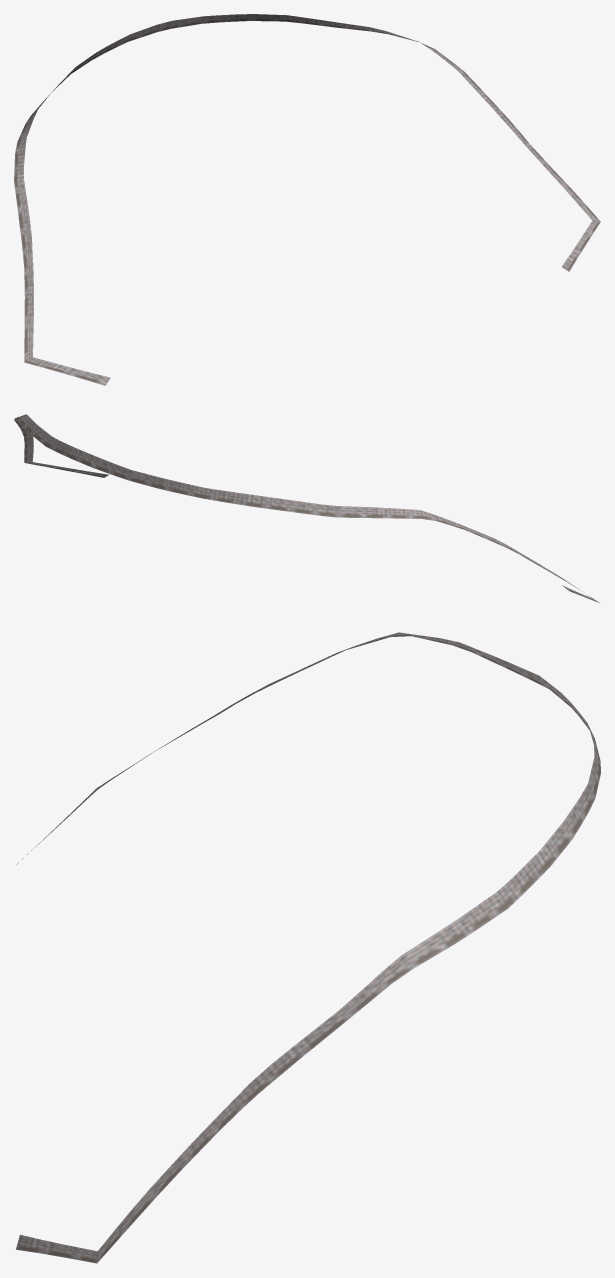
File: peak_collar_AMF 2mm.glb
The picture shows the model from 3 angles, top to bottom: view 1: azimuth 30°, elevation 25°; view 2: azimuth 150°, elevation 25°; view 3: azimuth 270°, elevation 25°; orthographic projection. The views are drawn at different scales.
Visible parts, largest first — view 1: peak_collar_AMF1; view 2: peak_collar_AMF1; view 3: peak_collar_AMF1.
Part boxes in pixels (bbox=[...]): peak_collar_AMF1: bbox=[14, 14, 600, 385]; peak_collar_AMF1: bbox=[14, 414, 599, 602]; peak_collar_AMF1: bbox=[16, 632, 600, 1263].
Bounding box in the file's own units: 0.0397 × 0.0119 × 0.0207.
1 material, 1 textured.
